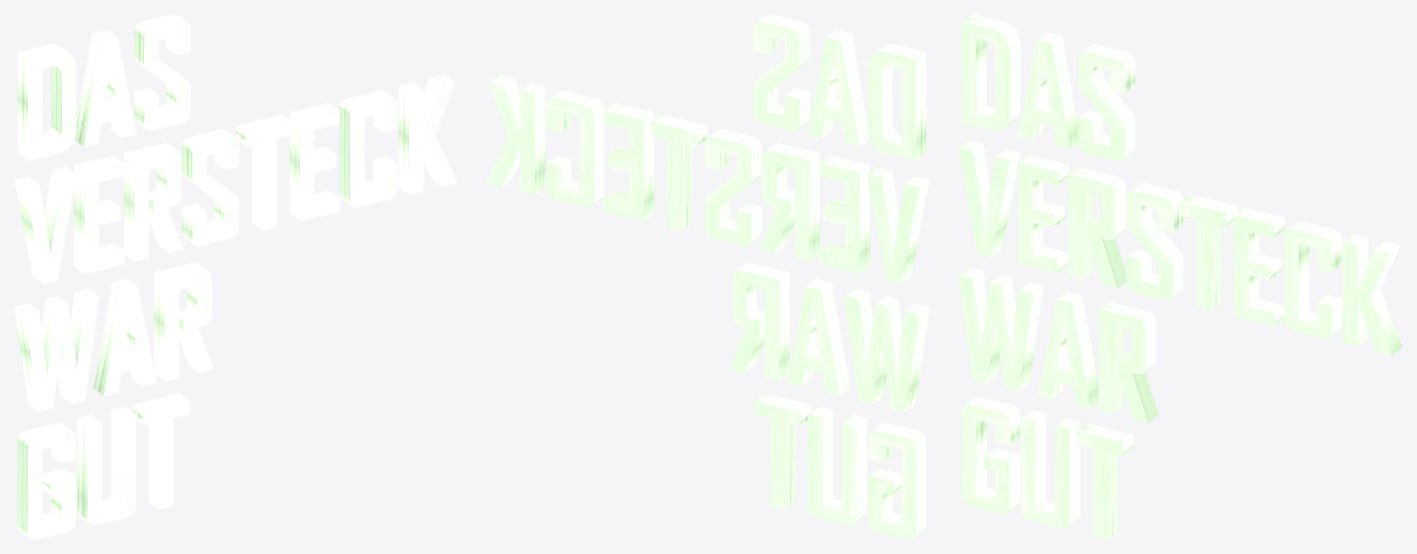
The picture shows the model from 3 angles, left to right: view 1: azimuth 30°, elevation 25°; view 2: azimuth 150°, elevation 25°; view 3: azimuth 330°, elevation 25°; orthographic projection.
Parts seen in each view (by area): view 1: Text; view 2: Text; view 3: Text.
Part boxes in pixels (x1=…): Text: x1=14, y1=14, x2=457, y2=539; Text: x1=486, y1=14, x2=929, y2=539; Text: x1=958, y1=14, x2=1402, y2=539.
Size of the model in its own units: 2.86 by 3.04 by 0.12.
1 material, 1 textured.
